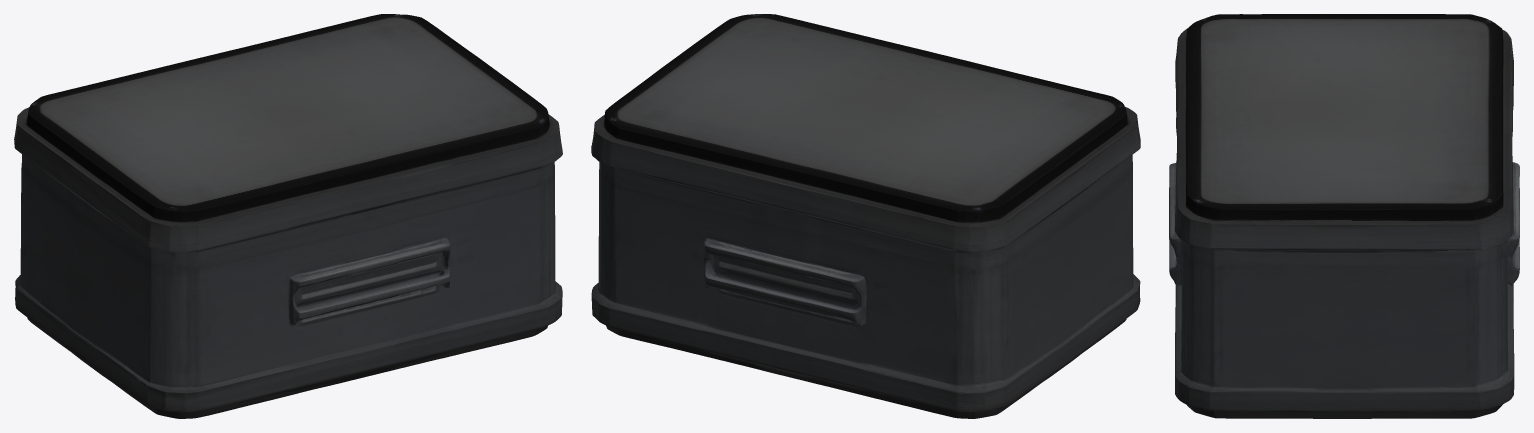
Rendered from GreyBox1.glb.
3 renders of one model, left to right at view 1: azimuth 30°, elevation 25°; view 2: azimuth 150°, elevation 25°; view 3: azimuth 270°, elevation 25°, orthographic.
Parts seen in each view (by area): view 1: world; view 2: world; view 3: world.
Boxes of the visible parts, x1,y1,x2,y2 form: world: (14,14,562,418); world: (591,14,1140,418); world: (1169,14,1519,418).
Bounding box in the file's own units: 0.9978 × 0.4832 × 0.7229.
Materials: 1 (1 with a texture image).
